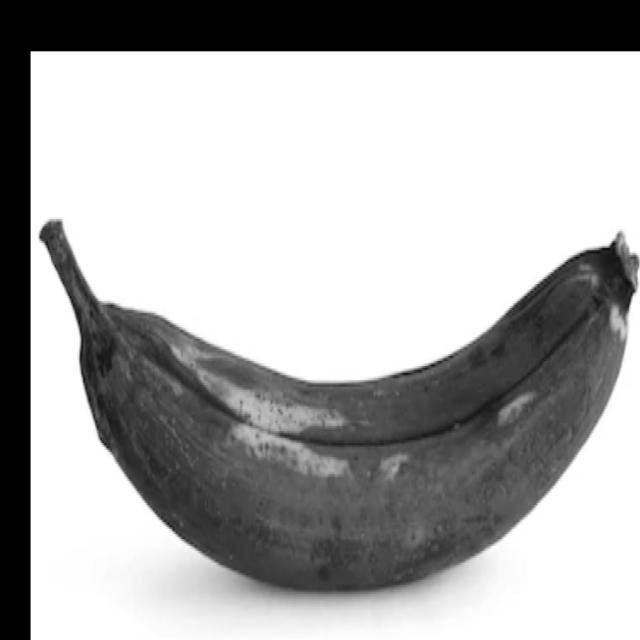Rotten: (27, 190, 640, 608)
